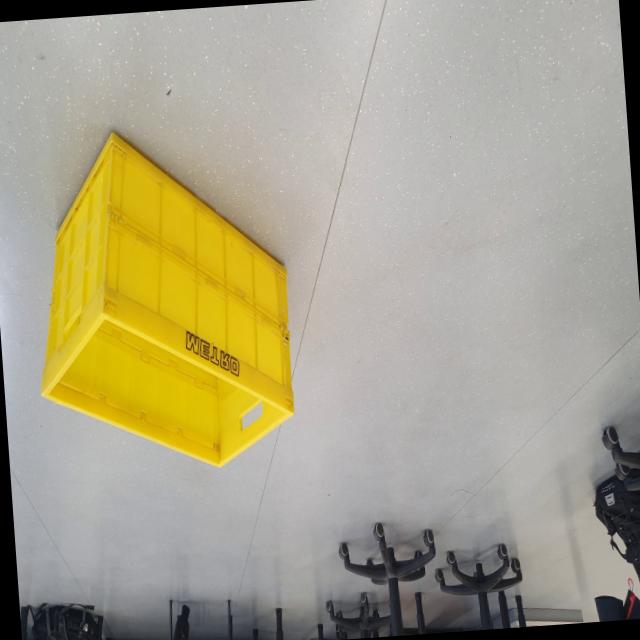box: (19, 116, 310, 486)
